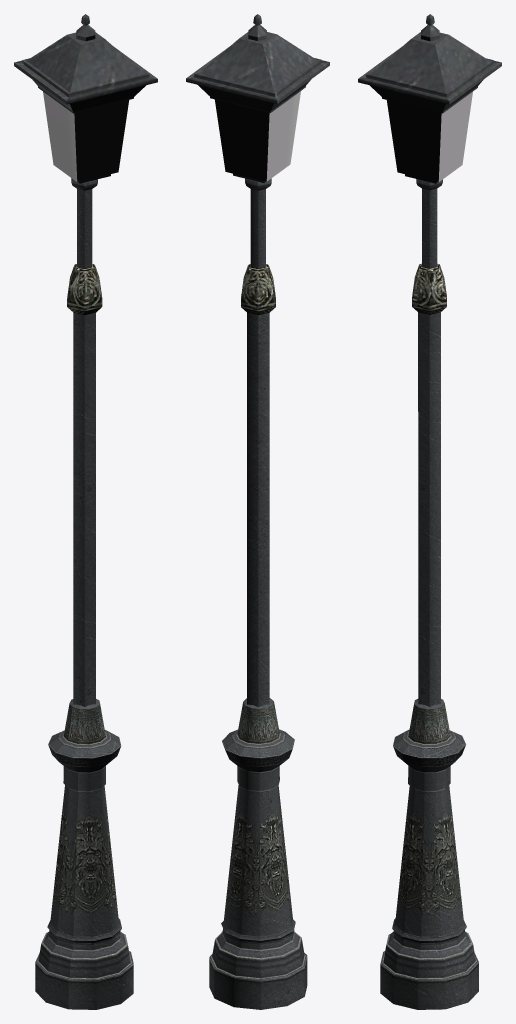
The model's file is simple_lamp_post_model_a.glb.
The picture shows the model from 3 angles, left to right: view 1: azimuth 30°, elevation 25°; view 2: azimuth 150°, elevation 25°; view 3: azimuth 330°, elevation 25°; orthographic projection.
Parts seen in each view (by area): view 1: EMPR_LAMPA; view 2: EMPR_LAMPA; view 3: EMPR_LAMPA.
Part boxes in pixels (x1,y1,x2,y2): EMPR_LAMPA: (14, 14, 157, 1009); EMPR_LAMPA: (186, 14, 329, 1009); EMPR_LAMPA: (358, 14, 501, 1009).
Bounding box in the file's own units: 0.3309 × 3.38 × 0.3309.
Materials: 1 (1 with a texture image).
